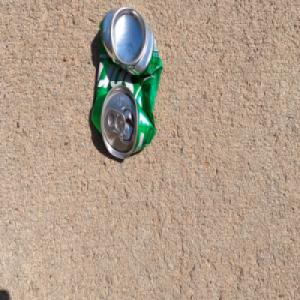SodaCan: (90, 5, 163, 162)
